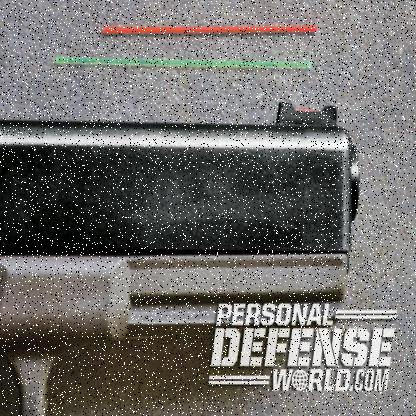pistol: (1, 86, 365, 416)
